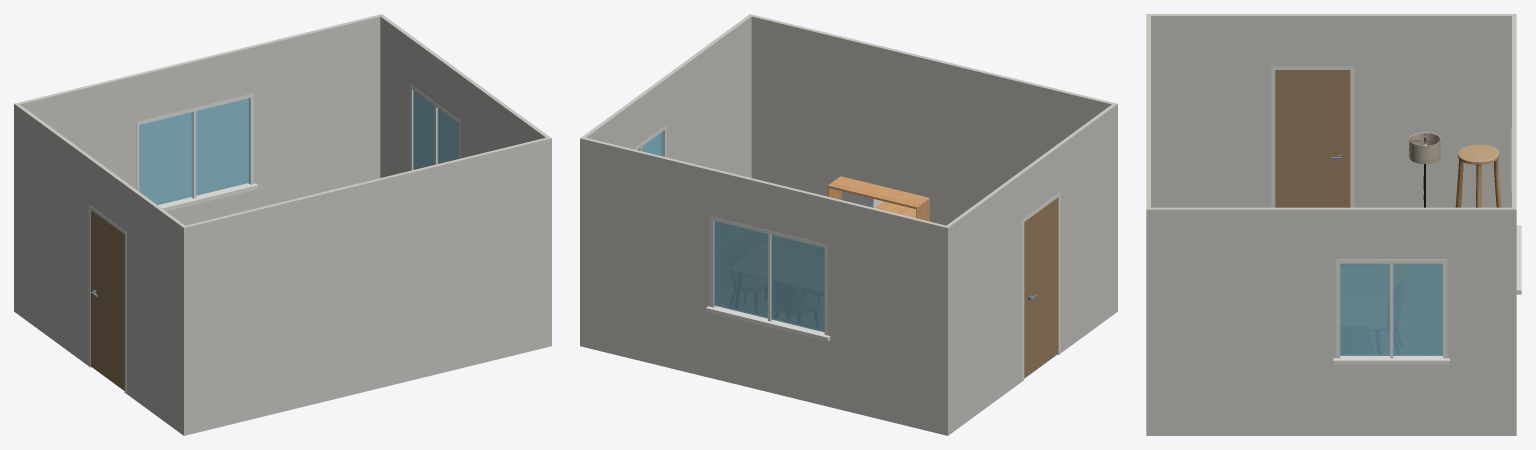
File: scenesmith.glb
3 renders of one model, left to right at view 1: azimuth 30°, elevation 25°; view 2: azimuth 150°, elevation 25°; view 3: azimuth 270°, elevation 25°, orthographic. The views are drawn at different scales.
Visible parts, largest first — view 1: scene_156_dining_room_south_wall, scene_156_dining_room_north_wall, scene_156_dining_room_west_wall, scene_156_dining_room_east_wall, scene_156_dining_room_north_wall Window 0 | glazing, scene_156_dining_room_west_wall Door 0 | wood leaf, scene_156_dining_room_east_wall Window 0 | glazing, scene_156_dining_room_north_wall Window 0 | jamb, scene_156_dining_room_west_wall Door 0 | jamb, scene_156_dining_room_east_wall Window 0 | jamb; view 2: scene_156_dining_room_north_wall, scene_156_dining_room_south_wall, scene_156_dining_room_west_wall, scene_156_dining_room_east_wall, scene_156_dining_room_north_wall Window 0 | glazing, scene_156_dining_room_west_wall Door 0 | wood leaf, scene_156_dining_room_north_wall Window 0 | jamb, P_1cd3cedf420c5aaa.001, scene_156_dining_room_west_wall Door 0 | jamb; view 3: scene_156_dining_room_east_wall, scene_156_dining_room_west_wall, scene_156_dining_room_west_wall Door 0 | wood leaf, scene_156_dining_room_east_wall Window 0 | glazing, scene_156_dining_room_east_wall Window 0 | jamb, furniture_group, scene_156_dining_room_south_wall, scene_156_dining_room_north_wall, scene_156_dining_room_west_wall Door 0 | jamb, scene_156_dining_room_north_wall Window 0 | jamb.
Part boxes in pixels (x1=…): scene_156_dining_room_south_wall: x1=182, y1=138, x2=551, y2=435; scene_156_dining_room_north_wall: x1=14, y1=15, x2=380, y2=312; scene_156_dining_room_west_wall: x1=16, y1=104, x2=187, y2=434; scene_156_dining_room_east_wall: x1=379, y1=14, x2=551, y2=177; scene_156_dining_room_north_wall Window 0 | glazing: x1=139, y1=98, x2=249, y2=204; scene_156_dining_room_west_wall Door 0 | wood leaf: x1=90, y1=210, x2=124, y2=390; scene_156_dining_room_east_wall Window 0 | glazing: x1=413, y1=90, x2=458, y2=169; scene_156_dining_room_north_wall Window 0 | jamb: x1=136, y1=93, x2=258, y2=211; scene_156_dining_room_west_wall Door 0 | jamb: x1=88, y1=204, x2=126, y2=393; scene_156_dining_room_east_wall Window 0 | jamb: x1=410, y1=84, x2=460, y2=170; scene_156_dining_room_north_wall: x1=580, y1=138, x2=949, y2=435; scene_156_dining_room_south_wall: x1=751, y1=15, x2=1117, y2=312; scene_156_dining_room_west_wall: x1=944, y1=104, x2=1115, y2=435; scene_156_dining_room_east_wall: x1=580, y1=14, x2=752, y2=177; scene_156_dining_room_north_wall Window 0 | glazing: x1=714, y1=221, x2=824, y2=332; scene_156_dining_room_west_wall Door 0 | wood leaf: x1=1024, y1=197, x2=1058, y2=378; scene_156_dining_room_north_wall Window 0 | jamb: x1=706, y1=216, x2=830, y2=341; P_1cd3cedf420c5aaa.001: x1=827, y1=176, x2=929, y2=221; scene_156_dining_room_west_wall Door 0 | jamb: x1=1022, y1=192, x2=1060, y2=381; scene_156_dining_room_east_wall: x1=1146, y1=207, x2=1516, y2=435; scene_156_dining_room_west_wall: x1=1151, y1=14, x2=1511, y2=207; scene_156_dining_room_west_wall Door 0 | wood leaf: x1=1275, y1=70, x2=1350, y2=207; scene_156_dining_room_east_wall Window 0 | glazing: x1=1340, y1=263, x2=1442, y2=355; scene_156_dining_room_east_wall Window 0 | jamb: x1=1333, y1=259, x2=1449, y2=364; furniture_group: x1=1409, y1=132, x2=1501, y2=207; scene_156_dining_room_south_wall: x1=1146, y1=14, x2=1150, y2=435; scene_156_dining_room_north_wall: x1=1512, y1=14, x2=1516, y2=435; scene_156_dining_room_west_wall Door 0 | jamb: x1=1271, y1=66, x2=1354, y2=207; scene_156_dining_room_north_wall Window 0 | jamb: x1=1511, y1=128, x2=1521, y2=294.
Size of the model in its own units: 5.1 by 2.71 by 4.05.
16 materials, 7 textured.
